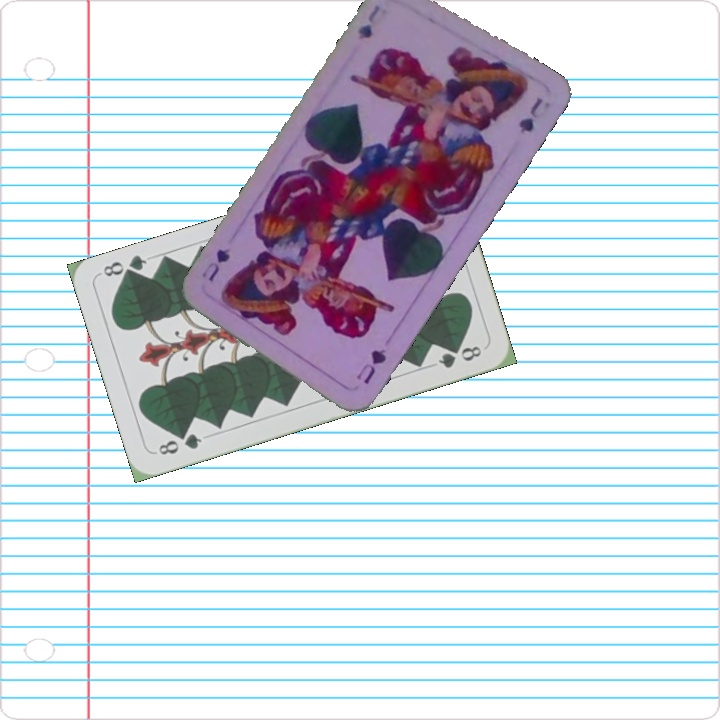G8: (154, 429, 205, 458)
GU: (352, 344, 389, 387), (353, 1, 383, 42)
